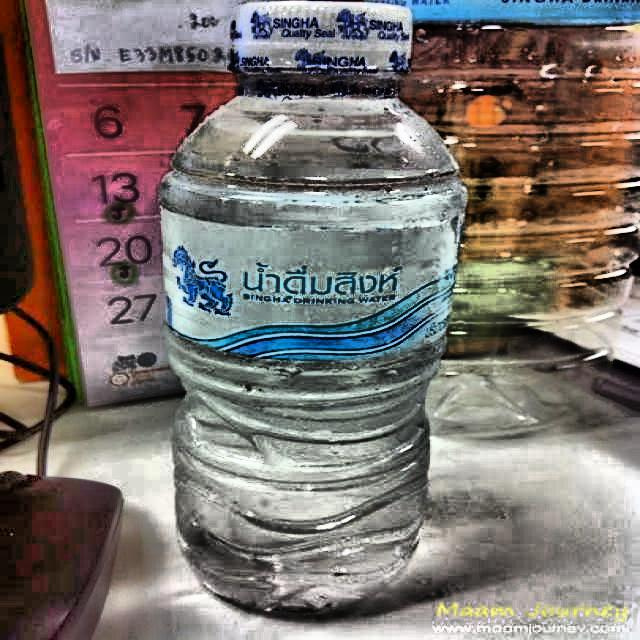plastic bottle: (161, 1, 467, 614)
